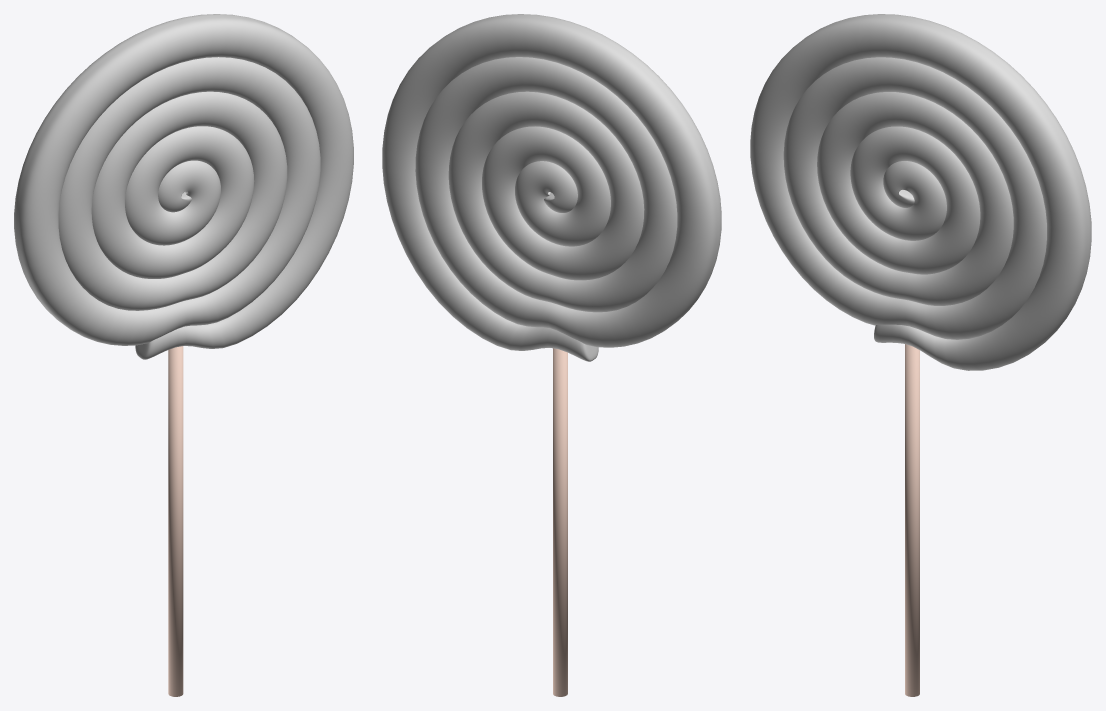
Rendered from lollipop_flat.fbx.
3 views of the same model, side by side, from view 1: azimuth 30°, elevation 25°; view 2: azimuth 150°, elevation 25°; view 3: azimuth 330°, elevation 25° (orthographic).
Visible parts, largest first — view 1: Lollipop, Stick; view 2: Lollipop, Stick; view 3: Lollipop, Stick.
Boxes of the visible parts, x1=… form: Lollipop: x1=14, y1=14, x2=353, y2=359; Stick: x1=168, y1=346, x2=183, y2=696; Lollipop: x1=382, y1=14, x2=721, y2=361; Stick: x1=553, y1=348, x2=567, y2=696; Lollipop: x1=750, y1=14, x2=1091, y2=370; Stick: x1=905, y1=344, x2=919, y2=696.
Size of the model in its own units: 487 by 939 by 53.25.
